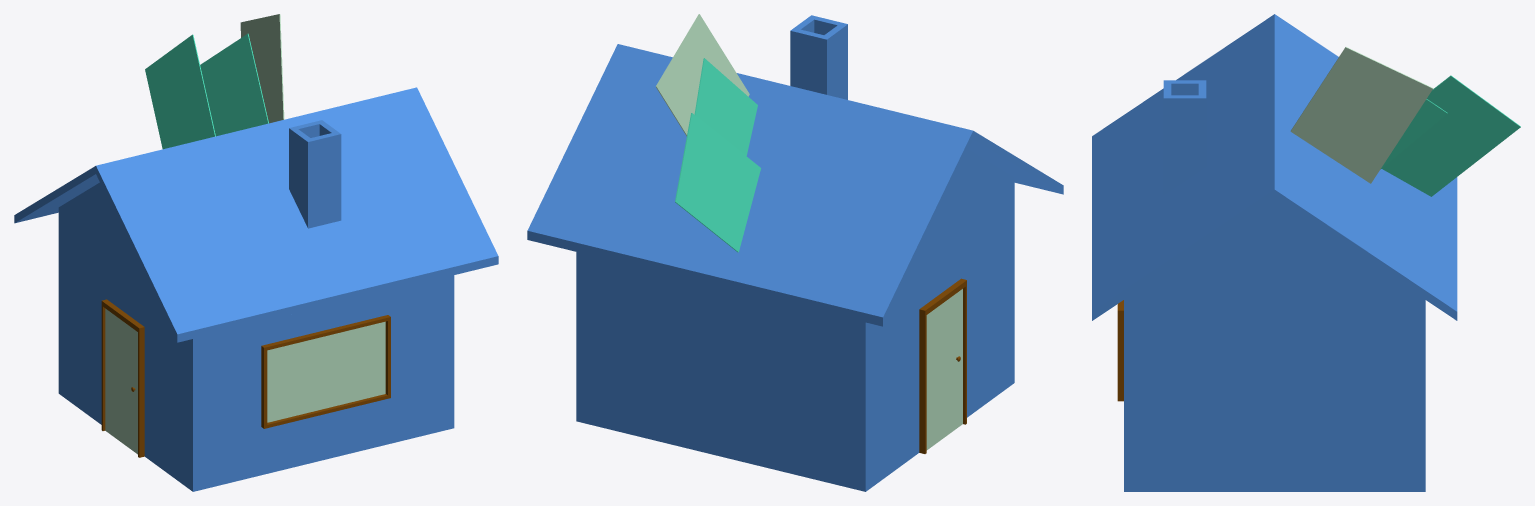
The model's file is VTB_House.fbx.
3 renders of one model, left to right at view 1: azimuth 30°, elevation 25°; view 2: azimuth 150°, elevation 25°; view 3: azimuth 270°, elevation 25°, orthographic. The views are drawn at different scales.
Parts seen in each view (by area): view 1: Plane.002; view 2: Plane.002; view 3: Plane.002.
Boxes of the visible parts, x1,y1,x2,y2 form: Plane.002: (14,14,498,491); Plane.002: (527,14,1063,491); Plane.002: (1092,14,1520,491).
Bounding box in the file's own units: 361 × 387 × 373.
